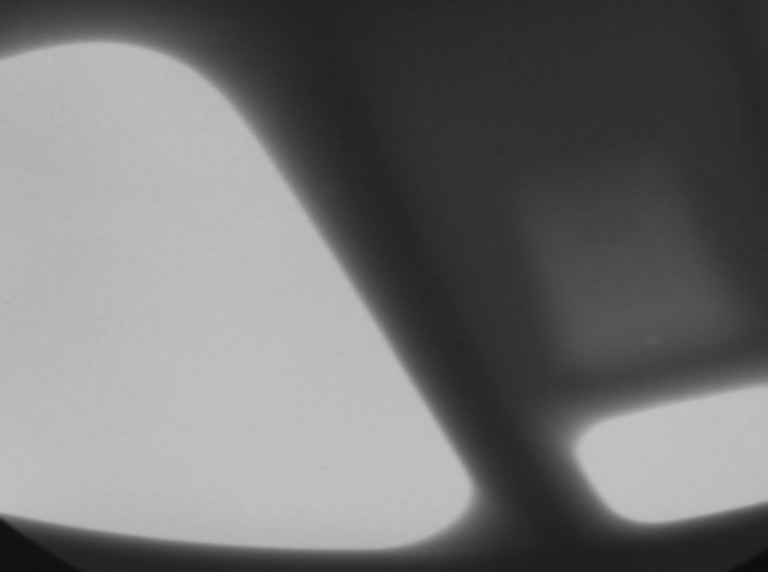defect: (630, 322, 678, 353)
